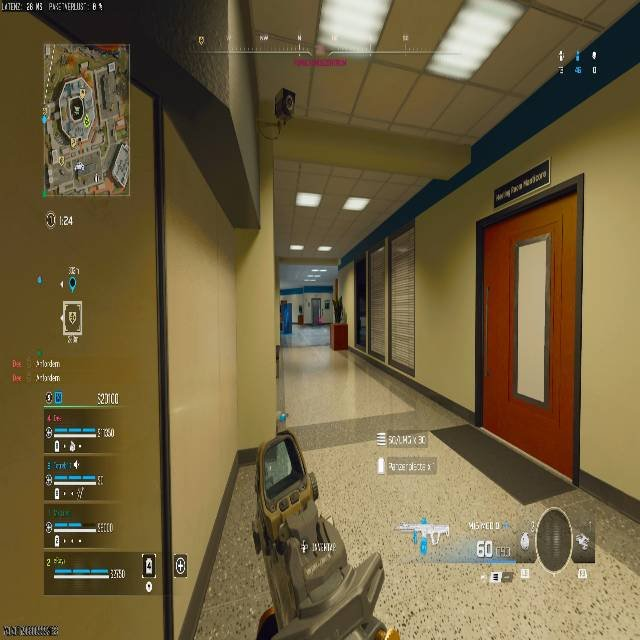player: (272, 87, 296, 136)
